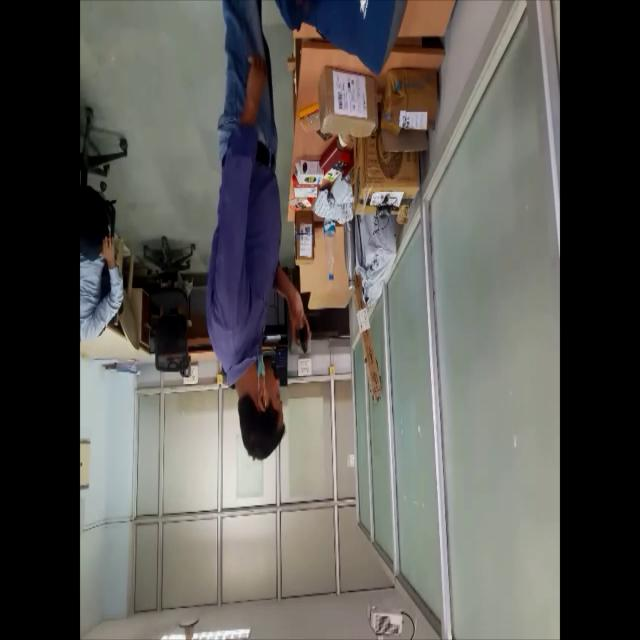normal: (204, 0, 315, 490)
